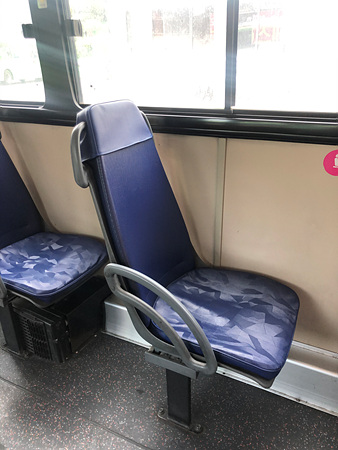seat: (75, 100, 303, 387)
